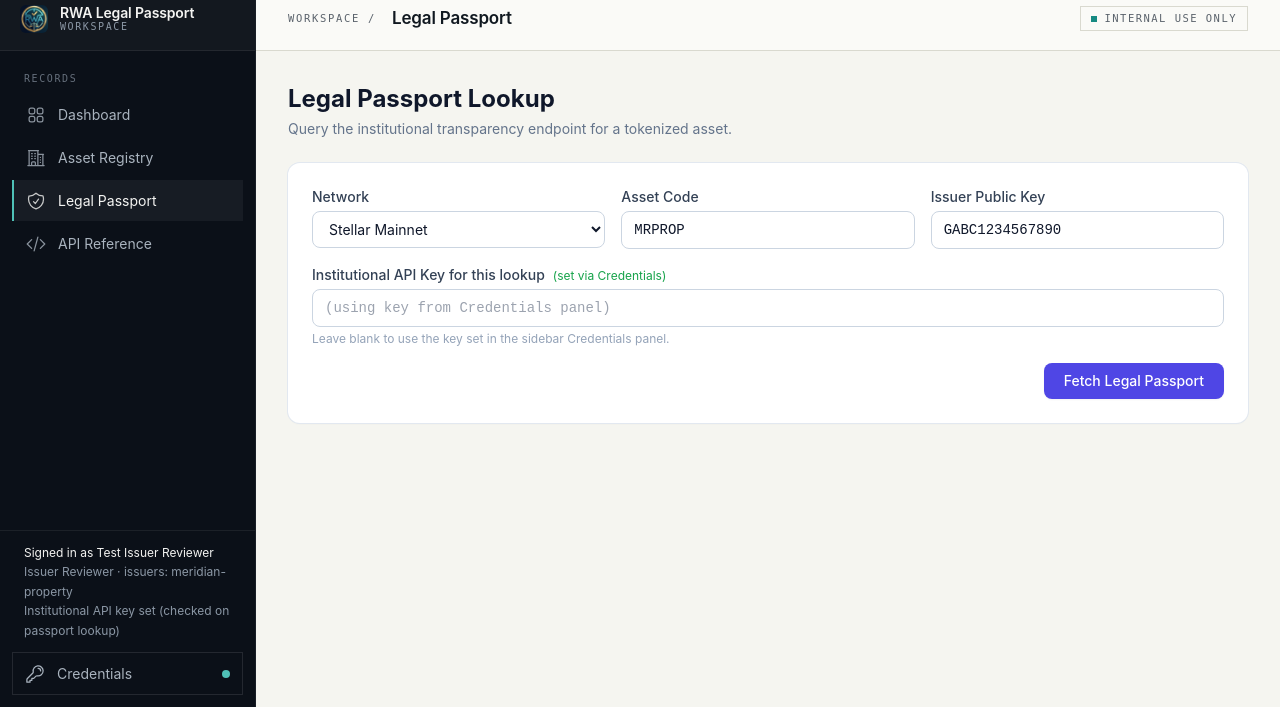
Passport History › reports an unavailable history without hiding the passport
What coordinates should you click on to do the following:
click the button "Fetch Legal Passport"
I would click on:
 (1134, 381)
Its box is [1044,363,1224,399].
(page scrolled)
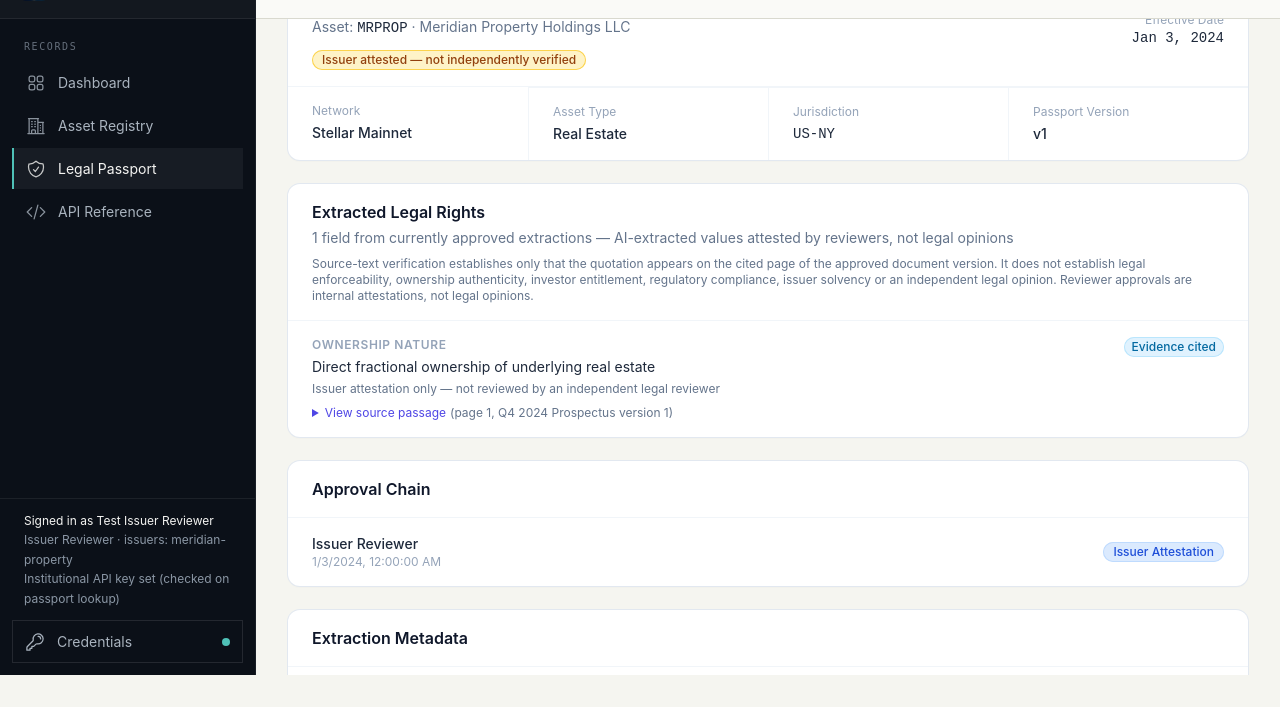
expect the element with test id "passport-card" is shown: met
